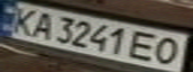1: (106, 25, 130, 56)
2: (69, 18, 93, 50)
3: (48, 13, 78, 46)
4: (87, 21, 112, 53)
A: (24, 9, 60, 42)
E: (127, 29, 163, 62)
K: (3, 4, 42, 36)
O: (148, 34, 190, 66)
